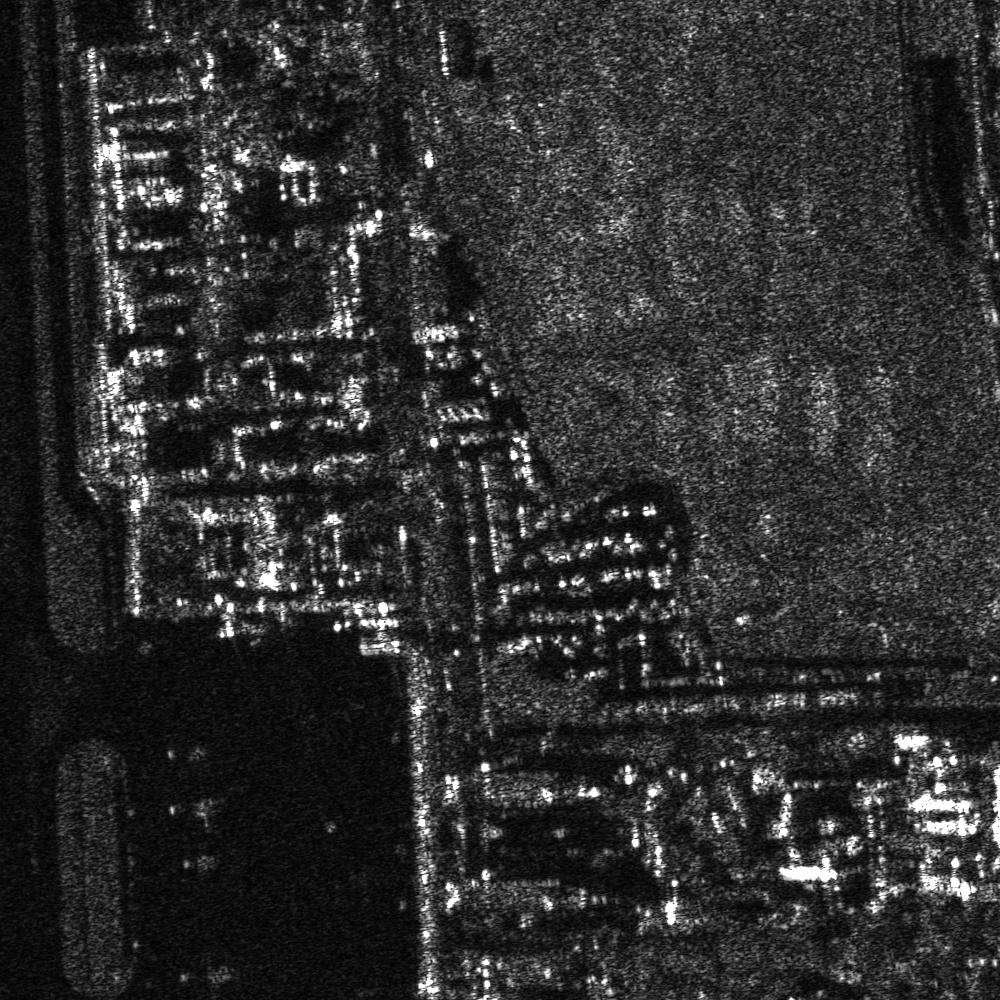ARJ21: (154, 788, 235, 839), (171, 842, 228, 883)
other: (174, 951, 243, 999), (162, 737, 218, 767)
